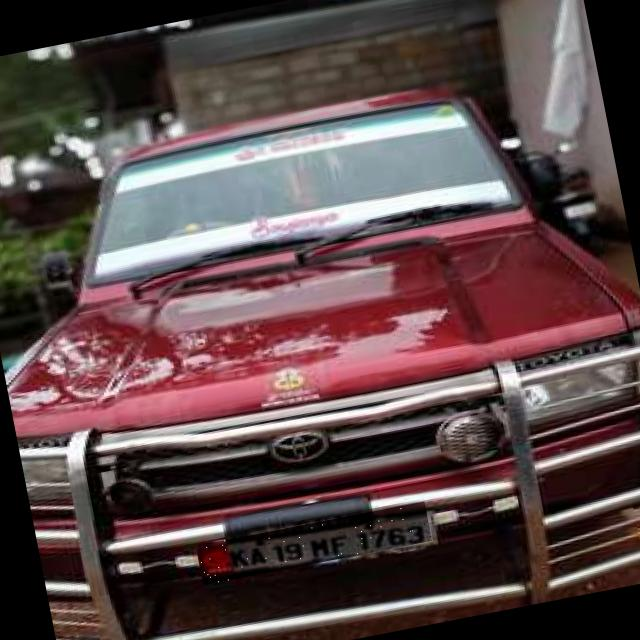Plate: (197, 503, 433, 587)
